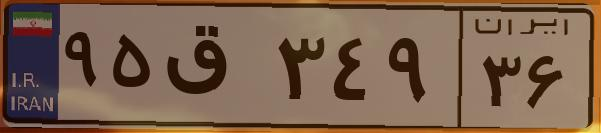3: (270, 28, 330, 110), (475, 38, 525, 113)
4: (330, 28, 385, 110)
5: (110, 28, 158, 98)
6: (525, 38, 570, 115)
9: (385, 28, 445, 110), (57, 26, 110, 100)
ق: (158, 20, 270, 120)
